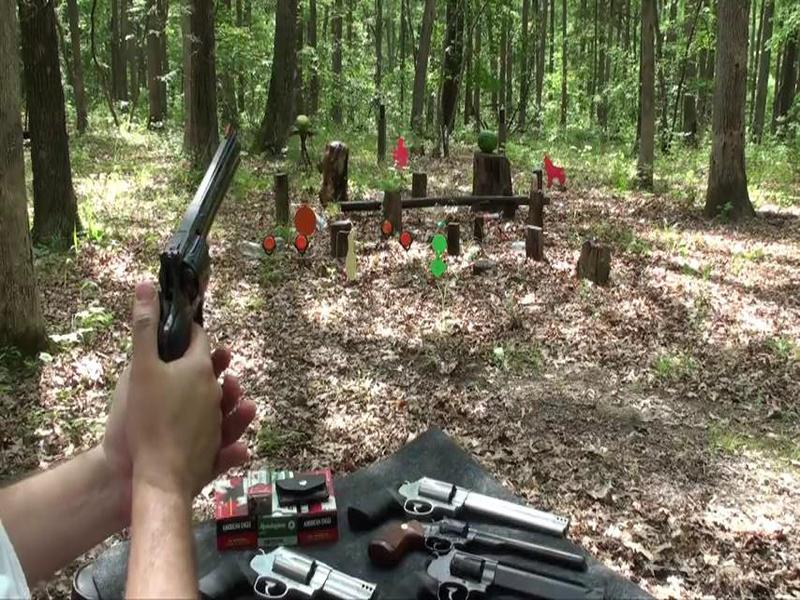Revolver: (136, 107, 273, 373)
